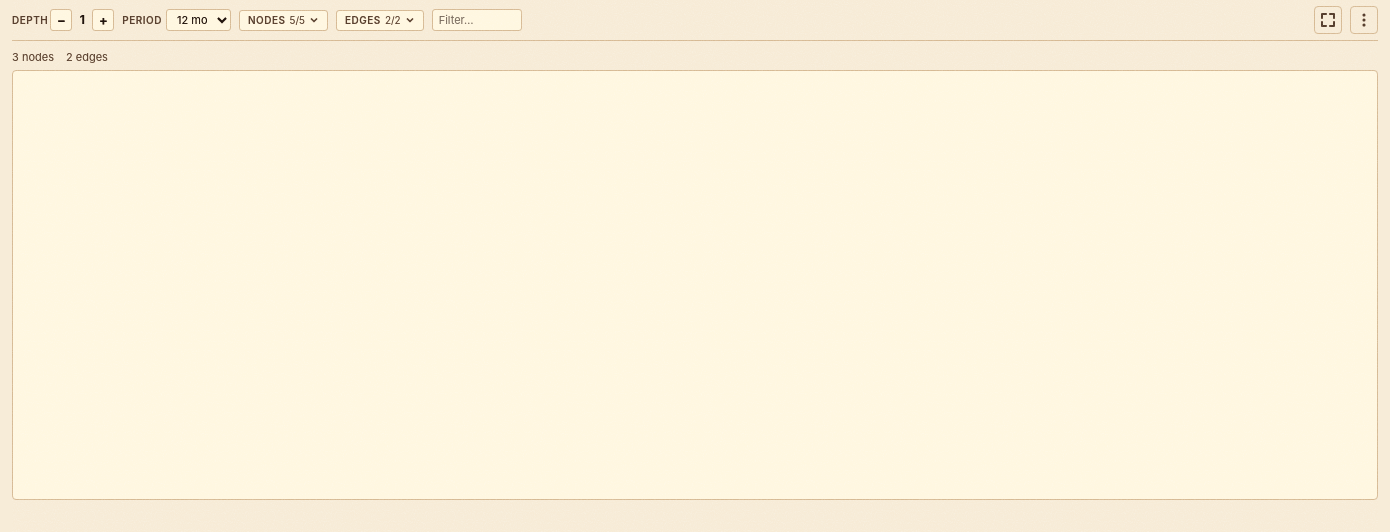
Test: GraphExplorer › clicking "Find path to…" shows the path search bar
The image size is (1390, 532).
// Open options menu, then click path toggle
Click the button with test id "ge-options-btn".
click(1364, 20)  # box [1350,6,1378,34]
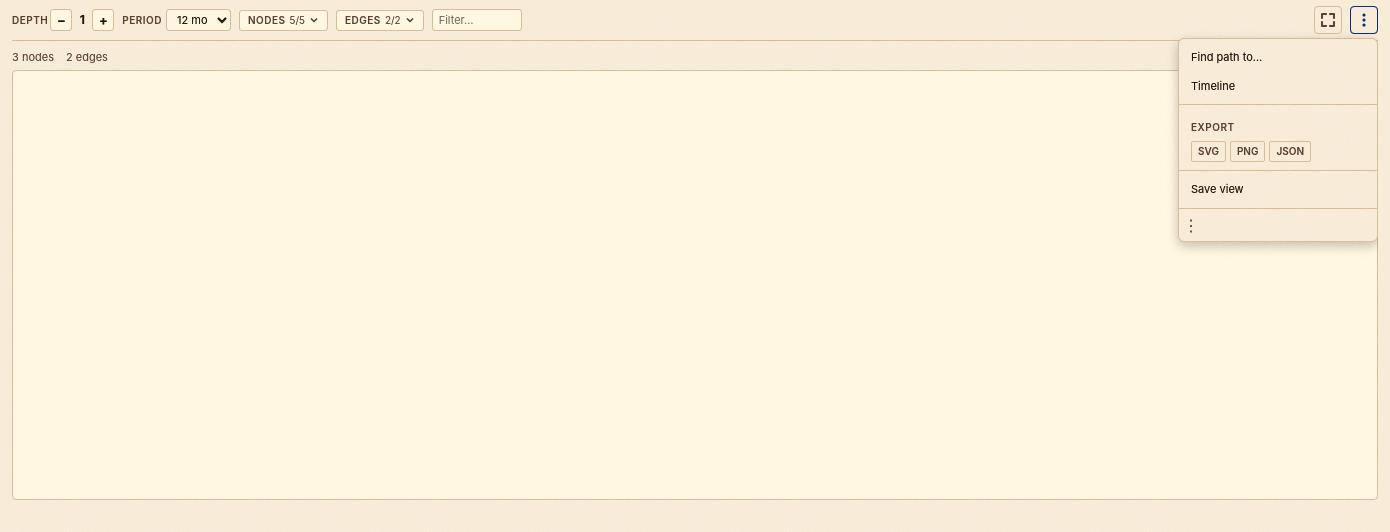
Click the button with test id "ge-path-toggle".
click(1278, 57)  # box [1179,43,1377,72]
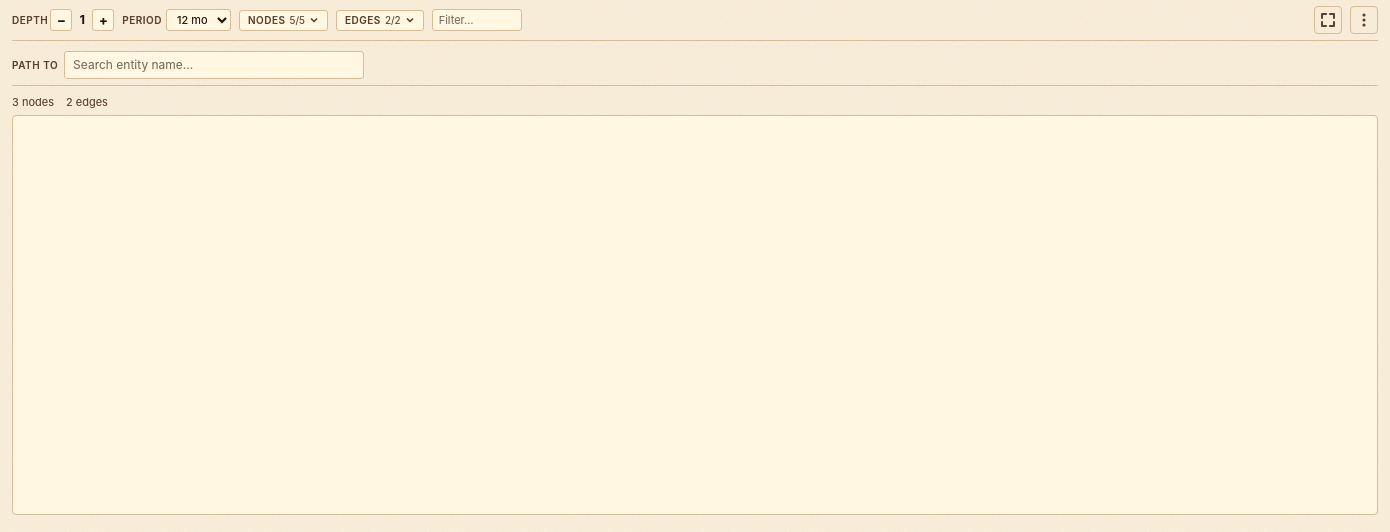
Result: the element with test id "ge-path-bar" is shown at [12,45,1378,86]
Result: the field with test id "ge-path-input" is shown at [64,51,364,79]
